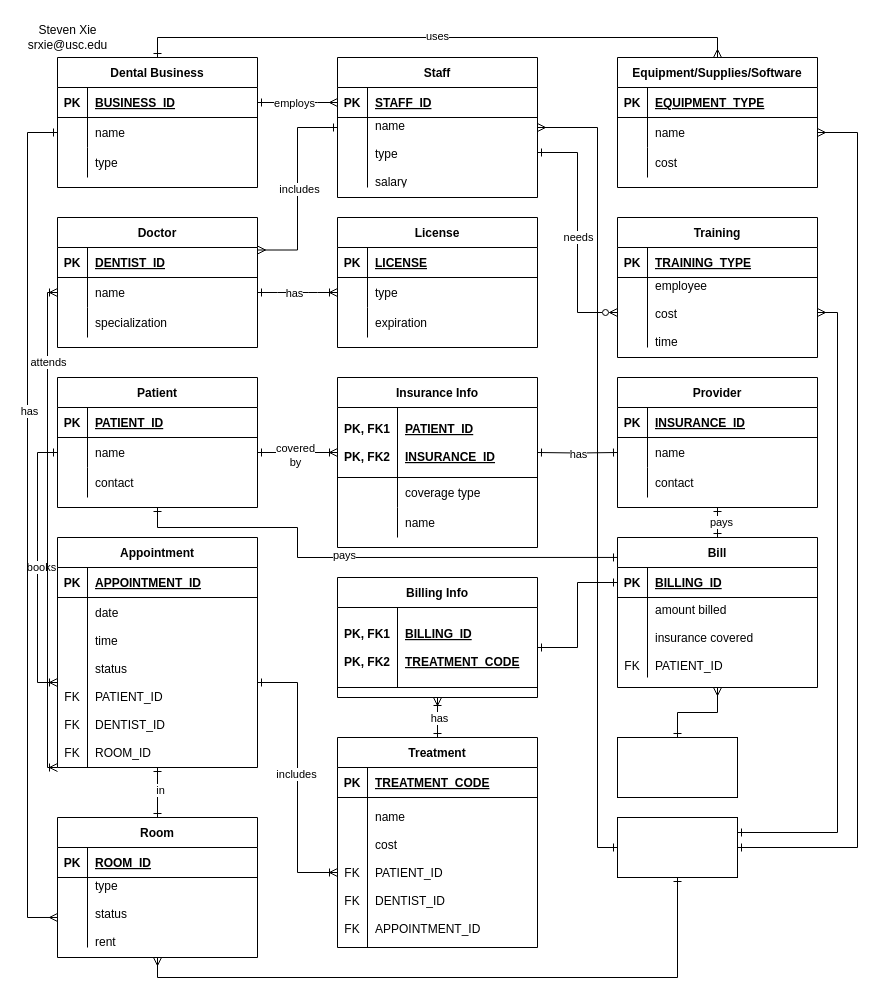
The diagram is 884 pixels wide and 1004 high, and some of its shapes have lost their labels. Here are the shapes that lost their labels. From the top down, the centre of each, then its label:
At (x=677, y=767): "Monthly Revenue PK: Month amount".
At (x=677, y=847): "Monthly Costs PK: Month amount".
